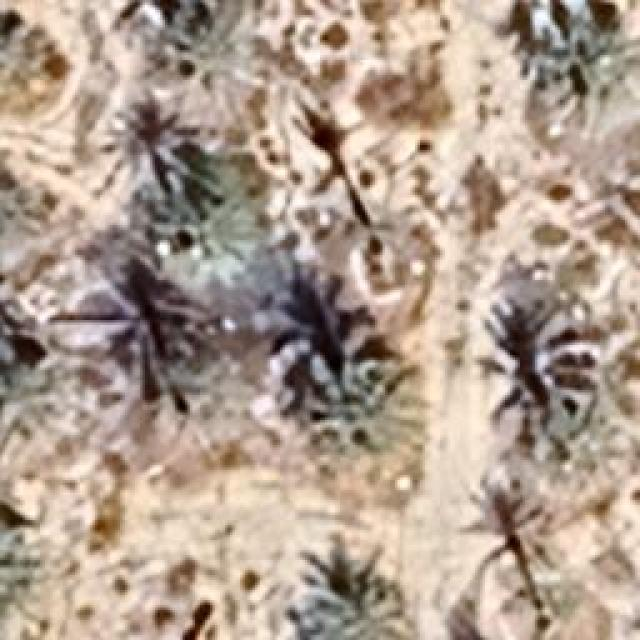PalmTree: (304, 142, 438, 310), (490, 0, 640, 120), (492, 314, 606, 458), (298, 346, 422, 462), (92, 88, 210, 200), (151, 166, 249, 284), (350, 42, 455, 130), (111, 292, 209, 376), (142, 3, 238, 86), (0, 494, 50, 628), (0, 12, 65, 112), (294, 582, 408, 638), (0, 342, 52, 455), (0, 162, 32, 275)
